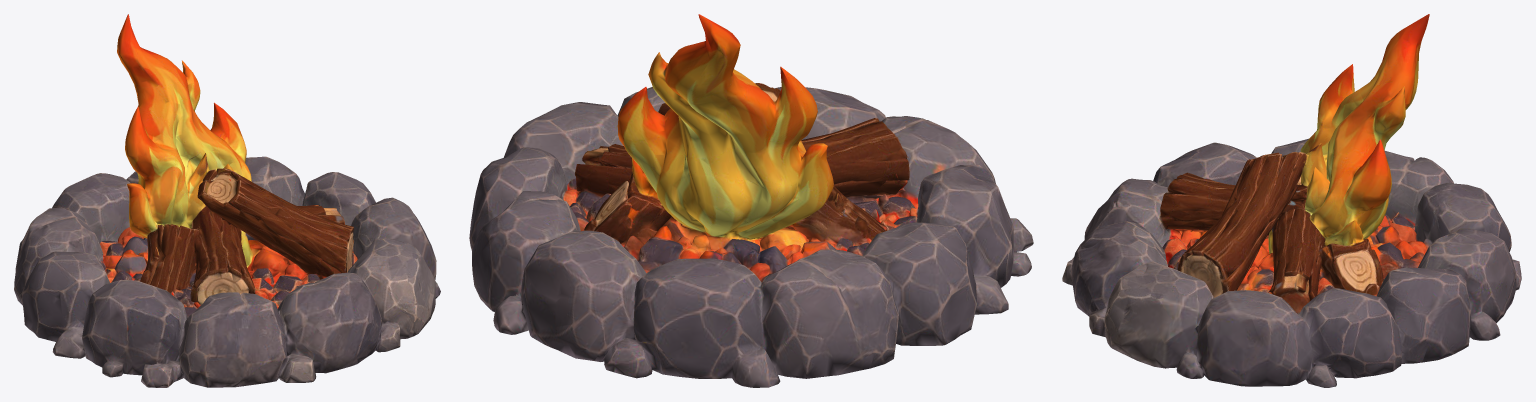
The model's file is campfire.glb.
3 views of the same model, side by side, from view 1: azimuth 30°, elevation 25°; view 2: azimuth 150°, elevation 25°; view 3: azimuth 270°, elevation 25° (orthographic). The views are drawn at different scales.
Bounding box in the file's own units: 1.9 × 1.19 × 1.9.
1 material, 1 textured.
